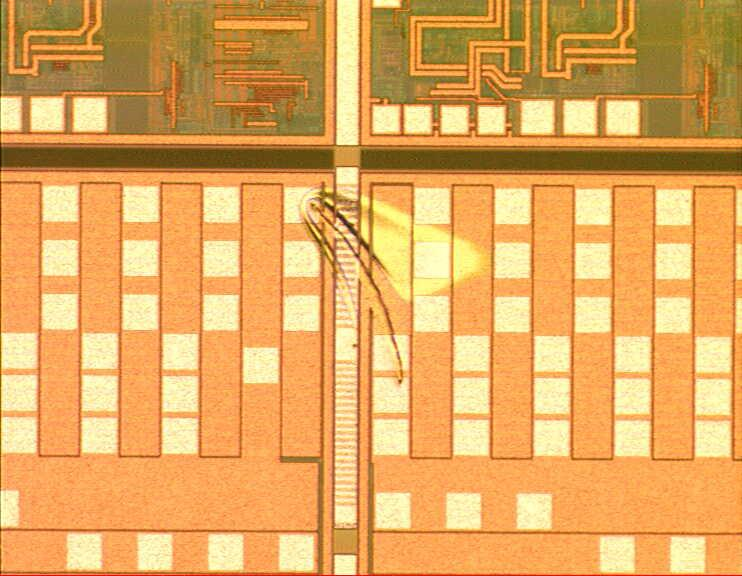BLOCK ETCH: (294, 185, 492, 389)
